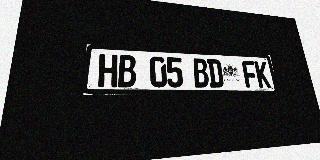0: (149, 56, 167, 87)
5: (166, 57, 184, 87)
B: (118, 55, 136, 87), (192, 58, 210, 87)
D: (207, 59, 224, 87)
F: (241, 60, 259, 88)
H: (98, 54, 118, 87)
K: (254, 61, 271, 88)
